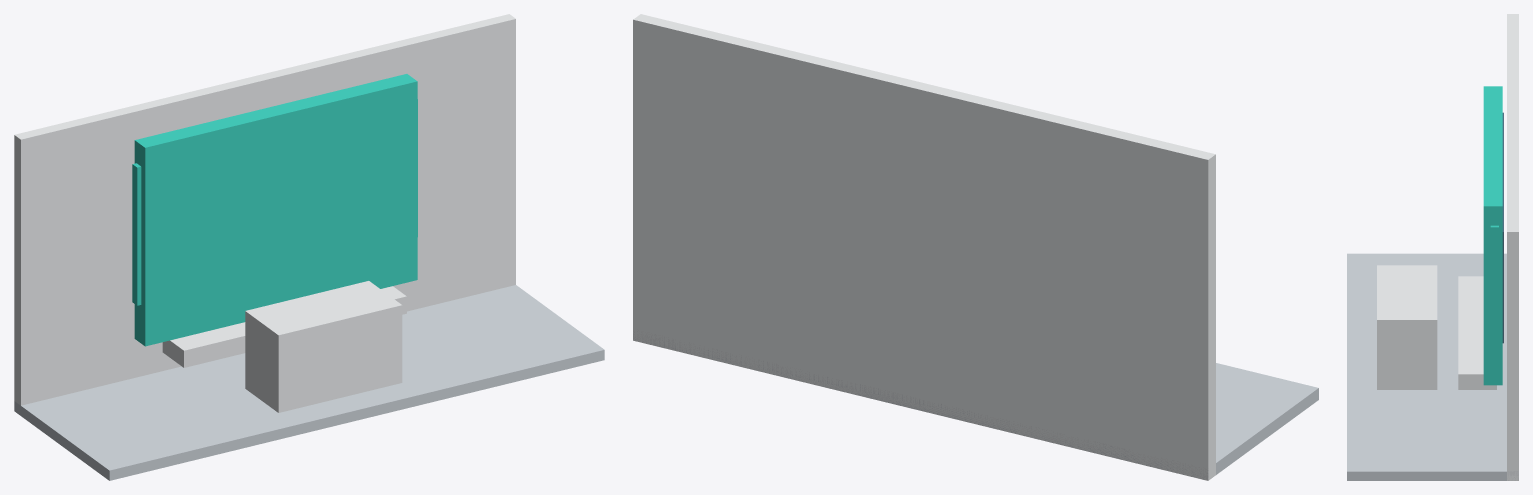
3 renders of one model, left to right at view 1: azimuth 30°, elevation 25°; view 2: azimuth 150°, elevation 25°; view 3: azimuth 270°, elevation 25°, orthographic. The views are drawn at different scales.
Parts seen in each view (by area): view 1: Exhibition Booth Concept; view 2: Exhibition Booth Concept; view 3: Exhibition Booth Concept.
Boxes of the visible parts, box(x1,y1,x2,y2) form: Exhibition Booth Concept: box(14, 14, 604, 480); Exhibition Booth Concept: box(633, 14, 1318, 480); Exhibition Booth Concept: box(1347, 14, 1518, 480).
Bounding box in the file's own units: 6 × 3.2 × 2.
